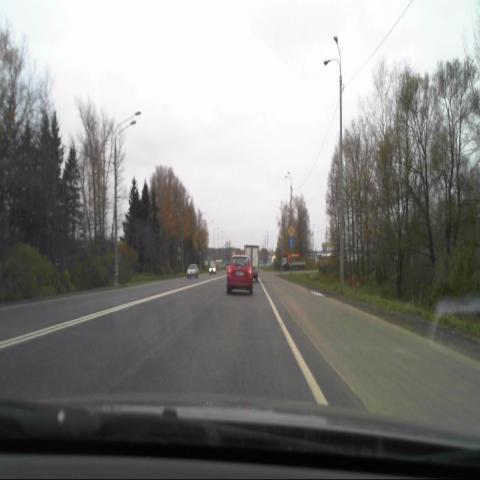2_1: (287, 224, 295, 237)
4_1_1: (288, 236, 295, 249)
